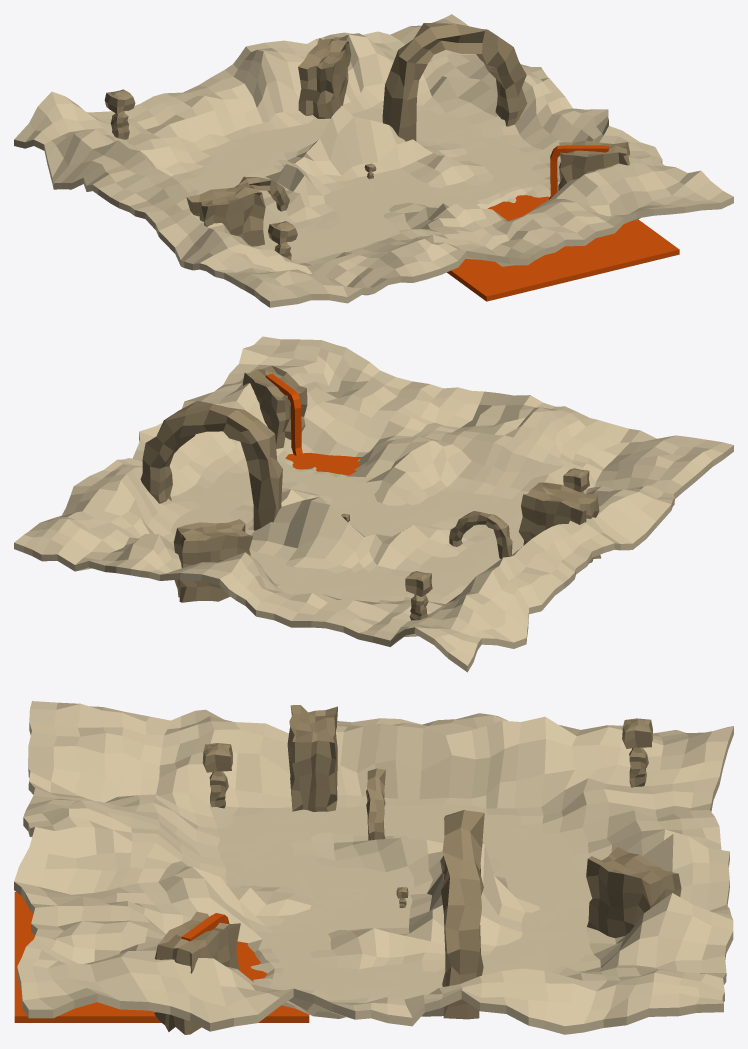
Rendered from terrain.fbx.
The picture shows the model from 3 angles, top to bottom: view 1: azimuth 30°, elevation 25°; view 2: azimuth 150°, elevation 25°; view 3: azimuth 270°, elevation 25°; orthographic projection. The views are drawn at different scales.
Visible parts, largest first — view 1: Cube.007; view 2: Cube.007; view 3: Cube.007.
Boxes of the visible parts, left/top/right/bottom form: Cube.007: left=14, top=14, right=733, bottom=307; Cube.007: left=14, top=336, right=733, bottom=672; Cube.007: left=14, top=701, right=733, bottom=1034.
Bounding box in the file's own units: 1655 × 468 × 1661.
